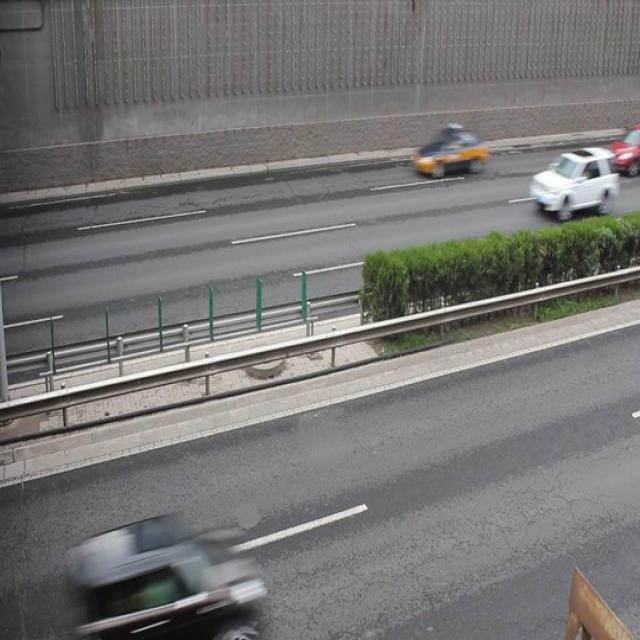car: (75, 516, 257, 640), (528, 146, 612, 219), (412, 125, 488, 180)
